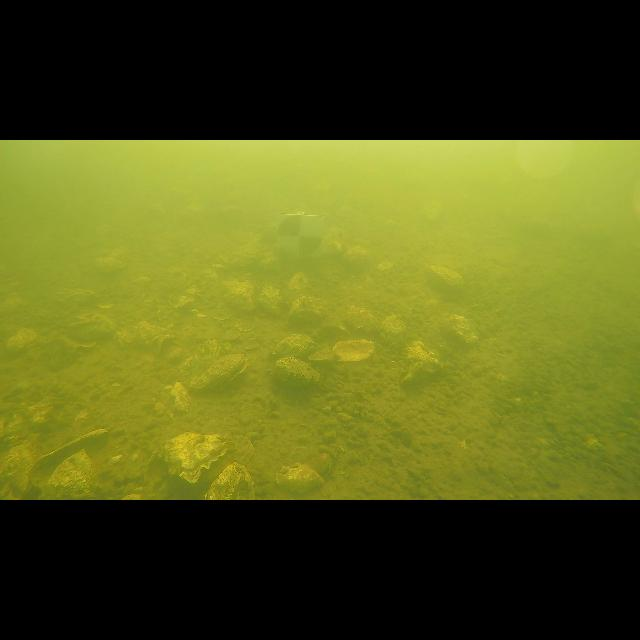Oyster-Closed: (161, 429, 233, 484), (45, 448, 102, 500), (188, 352, 245, 392), (174, 338, 222, 379), (205, 462, 255, 500), (0, 443, 33, 500), (404, 340, 441, 382), (276, 464, 324, 494), (69, 312, 116, 342), (275, 356, 320, 386), (272, 334, 318, 358), (136, 321, 172, 349), (344, 306, 381, 332), (92, 249, 129, 274), (289, 296, 322, 324), (445, 315, 478, 342), (226, 279, 254, 310), (342, 245, 371, 271), (381, 315, 406, 344), (258, 285, 282, 315), (6, 329, 38, 351), (430, 266, 462, 286), (59, 289, 96, 306), (288, 272, 310, 298), (235, 315, 258, 331), (169, 295, 194, 308)
Oyster-Open: (332, 339, 375, 361)
